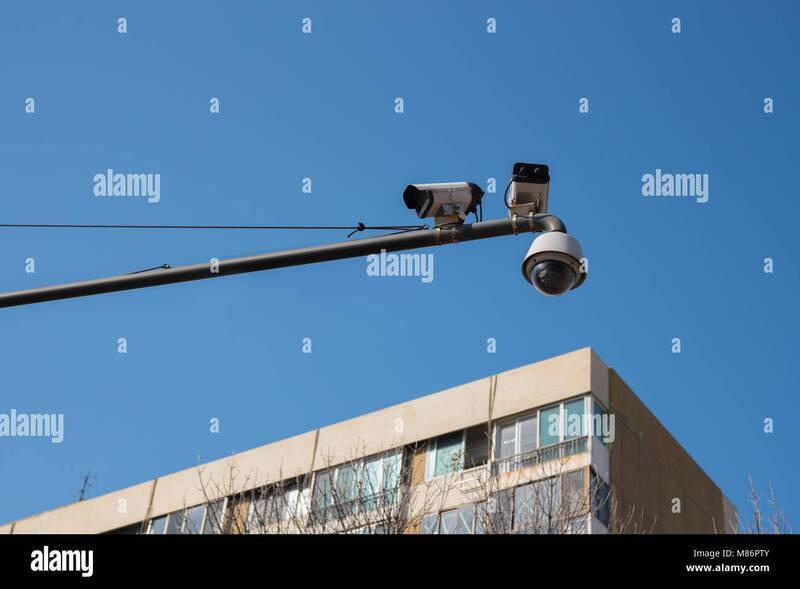box: (399, 179, 481, 224)
dome: (521, 235, 594, 300)
